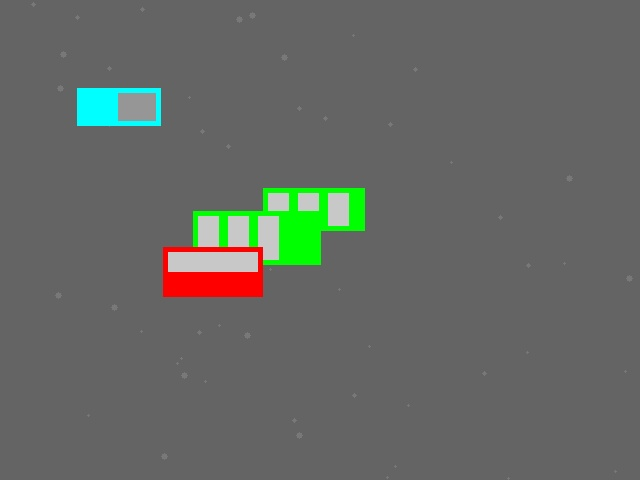bus: (193, 211, 320, 264), (263, 188, 364, 230)
car: (163, 247, 262, 296)
truck: (77, 88, 160, 125)
